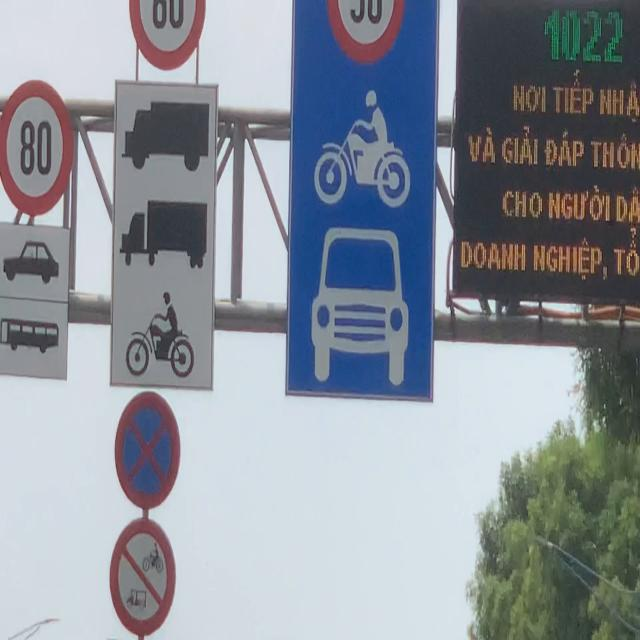Cam con lai: (108, 518, 178, 640)
Cam dung va do: (112, 386, 182, 514)
Toc do toi da: (0, 77, 72, 218)
